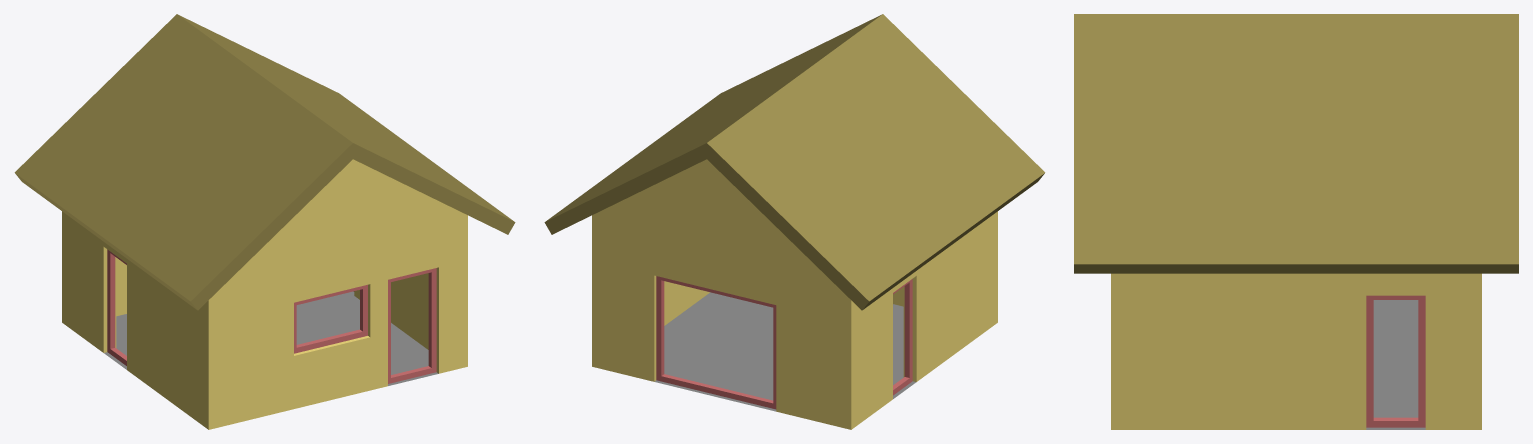
File: result.glb
3 renders of one model, left to right at view 1: azimuth 30°, elevation 25°; view 2: azimuth 150°, elevation 25°; view 3: azimuth 270°, elevation 25°, orthographic. The views are drawn at different scales.
Parts seen in each view (by area): view 1: cc417f90-1eab-46ce-b5f5-aa3097d30f9a__undefined (×2), 4f86d0fb-a0c7-42e5-969b-d022b6919a8f__undefined, bc6ee9be-b259-4e30-8ad4-23788a567d61__Plane_6, 5aa5a3b4-a253-4aa6-98ea-10dda12d7d98__Box, 47d99396-f82d-4053-8752-b09da9bdfb59__Box_3, 8d20e806-134a-4ce7-8ab5-d2b2031f5dc1__Box_12; view 2: cc417f90-1eab-46ce-b5f5-aa3097d30f9a__undefined (×2), 4f86d0fb-a0c7-42e5-969b-d022b6919a8f__undefined, bc6ee9be-b259-4e30-8ad4-23788a567d61__Plane_6, eb6ce965-c4db-4dcf-8719-20f8d8011718__Box_9, 8d20e806-134a-4ce7-8ab5-d2b2031f5dc1__Box_12; view 3: cc417f90-1eab-46ce-b5f5-aa3097d30f9a__undefined, 4f86d0fb-a0c7-42e5-969b-d022b6919a8f__undefined, bc6ee9be-b259-4e30-8ad4-23788a567d61__Plane_6, 52143bbf-5419-4dea-94da-8f8a46e3bea2__Box_15.
Boxes of the visible parts, left/top/right/bottom form: cc417f90-1eab-46ce-b5f5-aa3097d30f9a__undefined (×2): left=14, top=14, right=515, bottom=310; 4f86d0fb-a0c7-42e5-969b-d022b6919a8f__undefined: left=62, top=159, right=467, bottom=429; bc6ee9be-b259-4e30-8ad4-23788a567d61__Plane_6: left=104, top=291, right=438, bottom=385; 5aa5a3b4-a253-4aa6-98ea-10dda12d7d98__Box: left=388, top=268, right=436, bottom=383; 47d99396-f82d-4053-8752-b09da9bdfb59__Box_3: left=294, top=284, right=367, bottom=353; 8d20e806-134a-4ce7-8ab5-d2b2031f5dc1__Box_12: left=107, top=249, right=126, bottom=365; cc417f90-1eab-46ce-b5f5-aa3097d30f9a__undefined (×2): left=544, top=14, right=1045, bottom=310; 4f86d0fb-a0c7-42e5-969b-d022b6919a8f__undefined: left=592, top=159, right=997, bottom=429; bc6ee9be-b259-4e30-8ad4-23788a567d61__Plane_6: left=654, top=292, right=916, bottom=411; eb6ce965-c4db-4dcf-8719-20f8d8011718__Box_9: left=656, top=276, right=776, bottom=409; 8d20e806-134a-4ce7-8ab5-d2b2031f5dc1__Box_12: left=893, top=279, right=912, bottom=395; cc417f90-1eab-46ce-b5f5-aa3097d30f9a__undefined: left=1074, top=14, right=1518, bottom=273; 4f86d0fb-a0c7-42e5-969b-d022b6919a8f__undefined: left=1111, top=273, right=1481, bottom=429; bc6ee9be-b259-4e30-8ad4-23788a567d61__Plane_6: left=1366, top=300, right=1425, bottom=429; 52143bbf-5419-4dea-94da-8f8a46e3bea2__Box_15: left=1366, top=295, right=1425, bottom=427.
Size of the model in its own units: 639 by 500 by 600.
